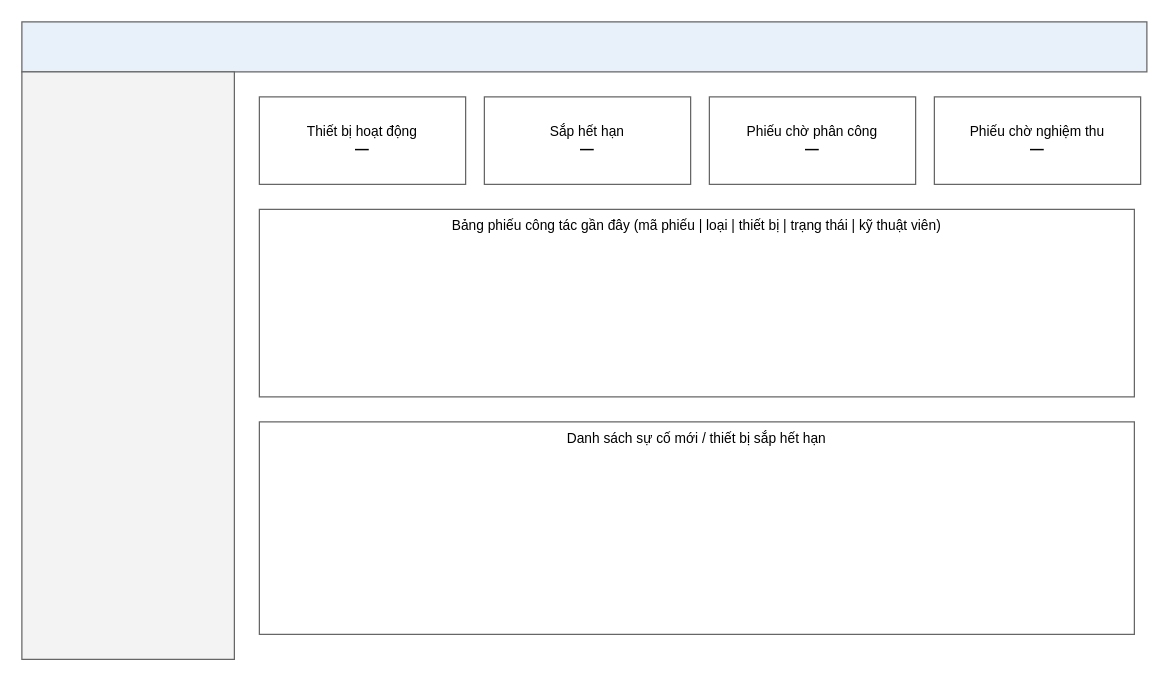
This 1169x681 diagram has some shape labels left out. Each missing label, with the box of its shape:
Bảng điều khiển Thiết bị Lịch Phiếu công tác Nghiệm thu Sự cố Báo cáo: (21, 71, 234, 659)
MedEquip — Điều phối: (21, 21, 1147, 72)
